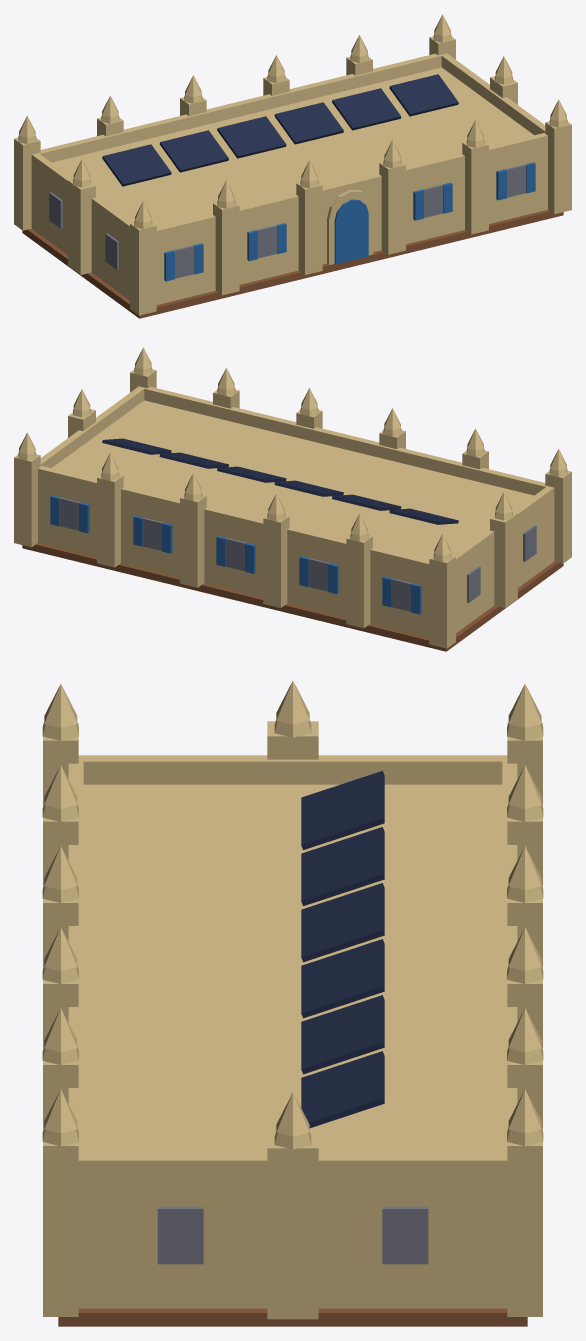
File: house-2x1-1f-banco-a-solar.glb
3 renders of one model, top to bottom at view 1: azimuth 30°, elevation 25°; view 2: azimuth 150°, elevation 25°; view 3: azimuth 270°, elevation 25°, orthographic. The views are drawn at different scales.
Visible parts, largest first — view 1: house-2x1-1f-banco-a-solar; view 2: house-2x1-1f-banco-a-solar; view 3: house-2x1-1f-banco-a-solar.
Boxes of the visible parts, box(x1,y1,x2,y2) form: house-2x1-1f-banco-a-solar: box(14, 14, 571, 318); house-2x1-1f-banco-a-solar: box(14, 347, 571, 651); house-2x1-1f-banco-a-solar: box(42, 681, 543, 1326).
Bounding box in the file's own units: 1.99 × 0.505 × 0.9814.
1 material, 1 textured.
